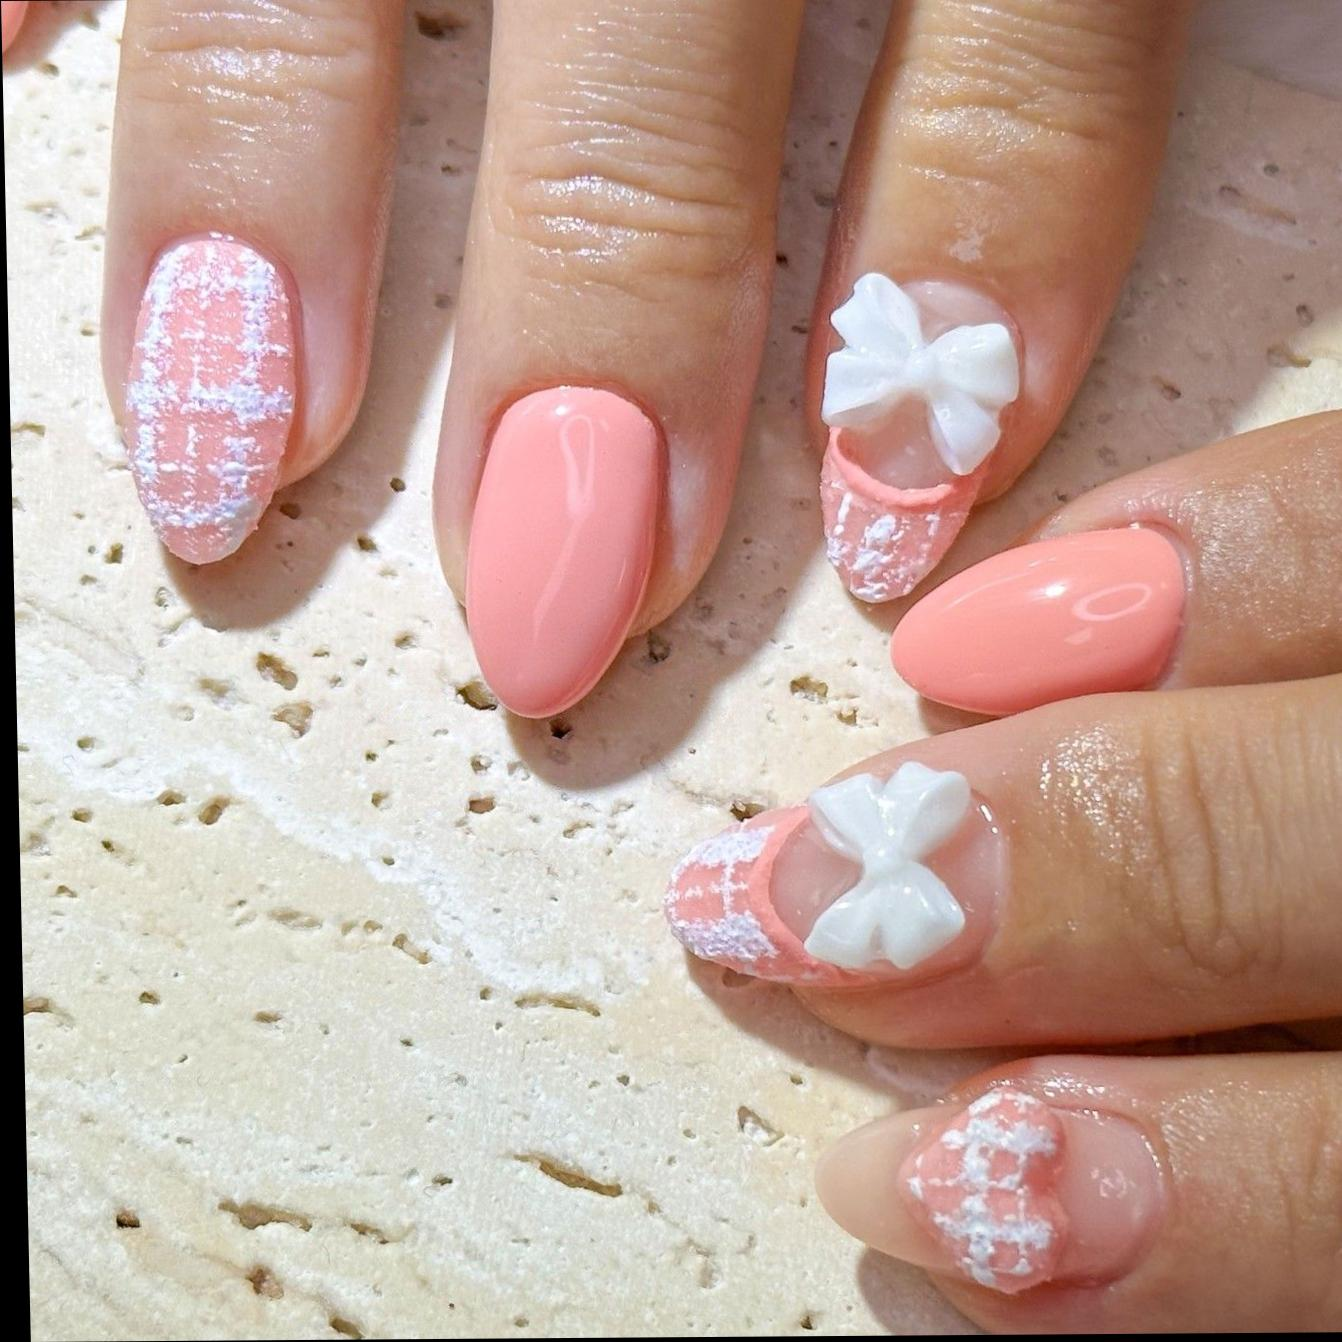nail: (811, 1081, 1171, 1296), (458, 379, 674, 720), (118, 227, 308, 565), (886, 518, 1193, 716)
